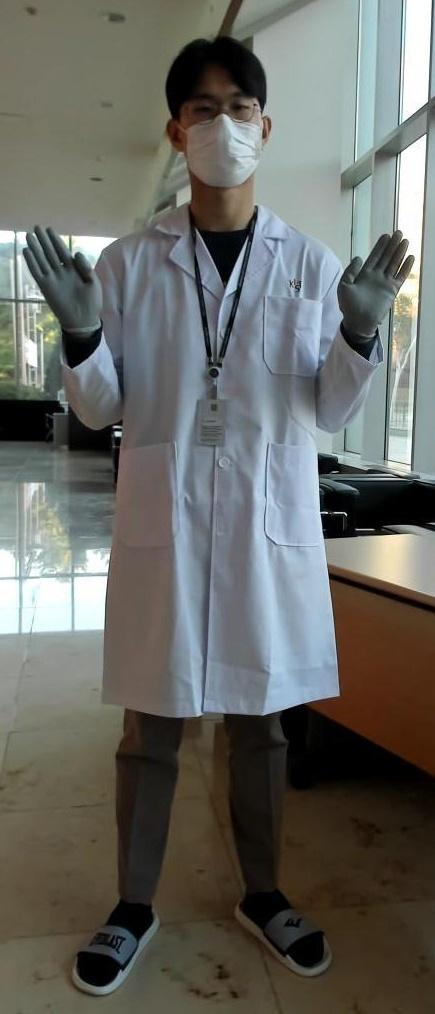lab_coat: (94, 222, 342, 713)
